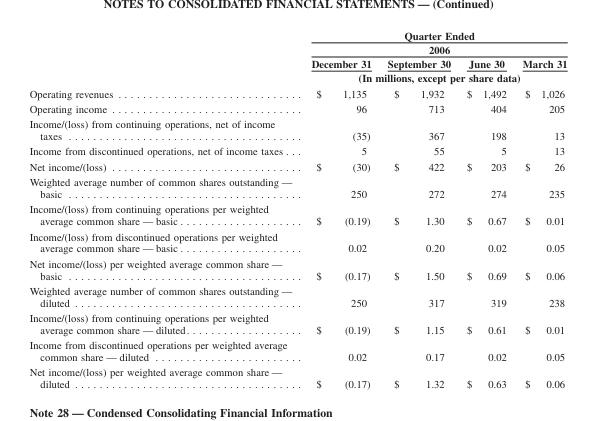table: (28, 28, 566, 389)
table column: (28, 28, 301, 389), (378, 28, 457, 389), (301, 28, 378, 389), (457, 28, 513, 389), (513, 28, 566, 389)
table column header: (28, 28, 566, 85)
table row: (28, 28, 566, 56), (28, 115, 566, 143), (28, 173, 566, 201), (28, 336, 566, 364), (28, 201, 566, 228), (28, 228, 566, 255), (28, 255, 566, 282), (28, 282, 566, 309), (28, 309, 566, 336), (28, 364, 566, 389), (28, 70, 566, 85), (28, 85, 566, 100), (28, 100, 566, 115), (28, 143, 566, 158), (28, 158, 566, 173), (28, 56, 566, 70)
table spanning cell: (301, 28, 566, 56), (301, 70, 566, 85)
